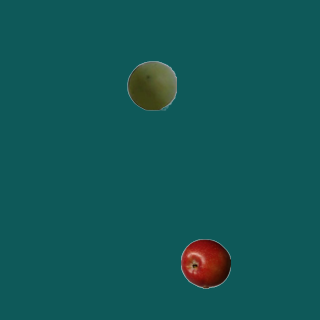Apple Braeburn: (180, 238, 230, 288)
Grape White 4: (126, 60, 176, 110)
